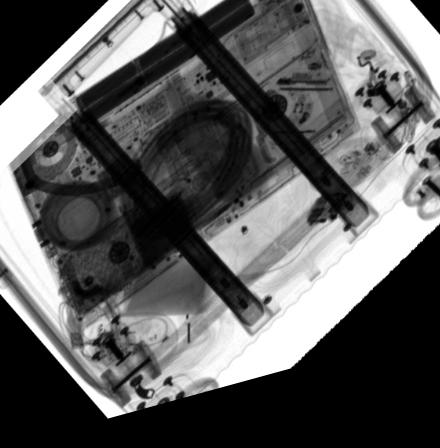Powerbank: (117, 181, 202, 279)
